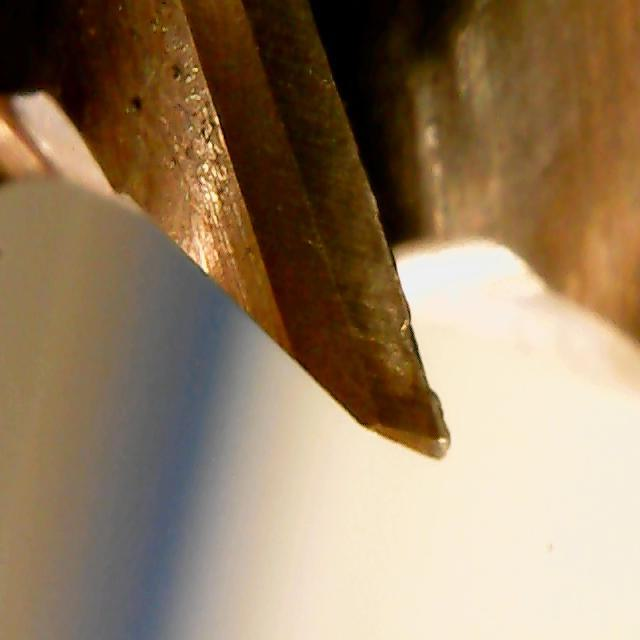Tool-wear-class-1: (284, 182, 466, 465)
